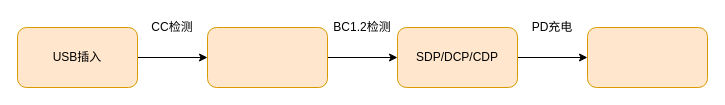
Some shapes in this 725 by 105 pixel diagram are drawn without their labels. The shapes that lost their labels are listed below. From the top down, each one's box as (x1, y1, x2, y2) in pixels, then its label:
(206, 26, 328, 88): DRP/DFP/UFP
(586, 26, 708, 88): PD/PE/basic
